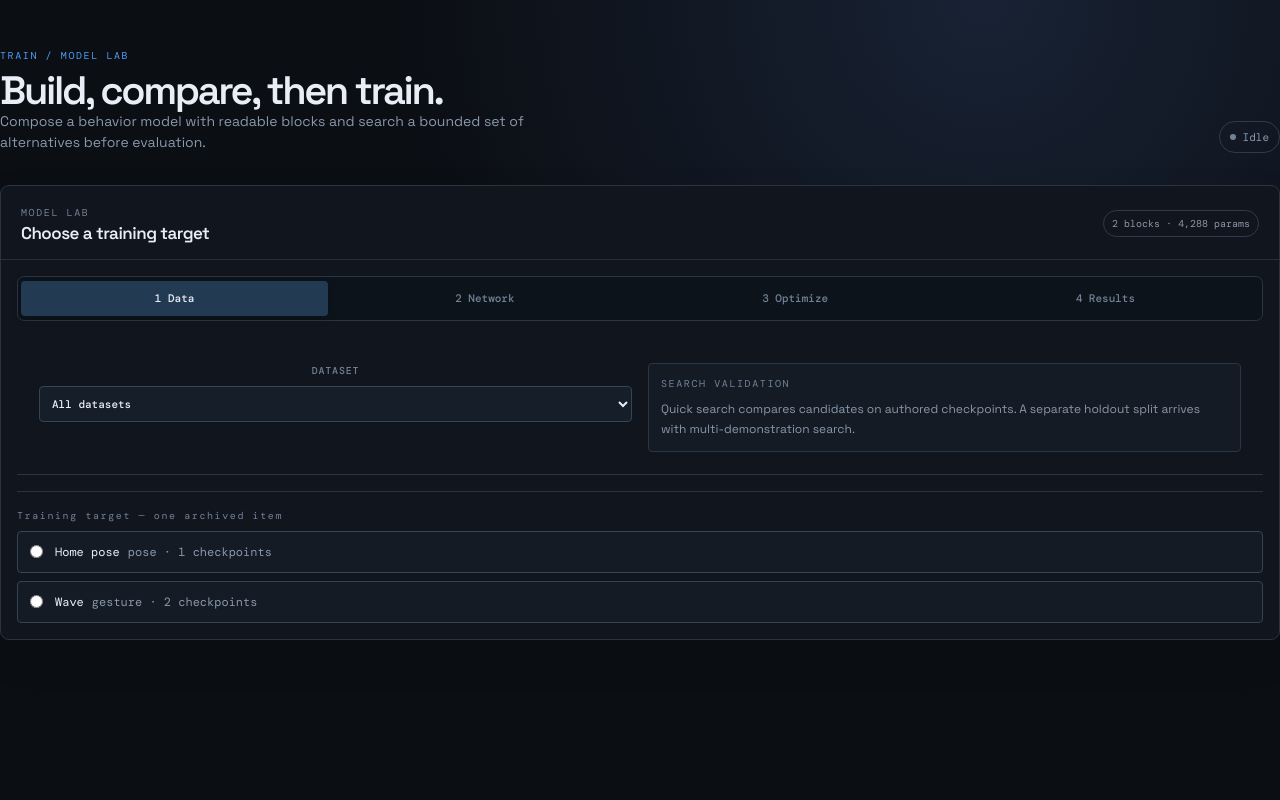
Test: TrainingPage single-target picker › blocks training until a target is selected
The width and height of the screenshot is (1280, 800).
Click the tab "3 Optimize". click: (795, 299)
box: [642,280,949,317]
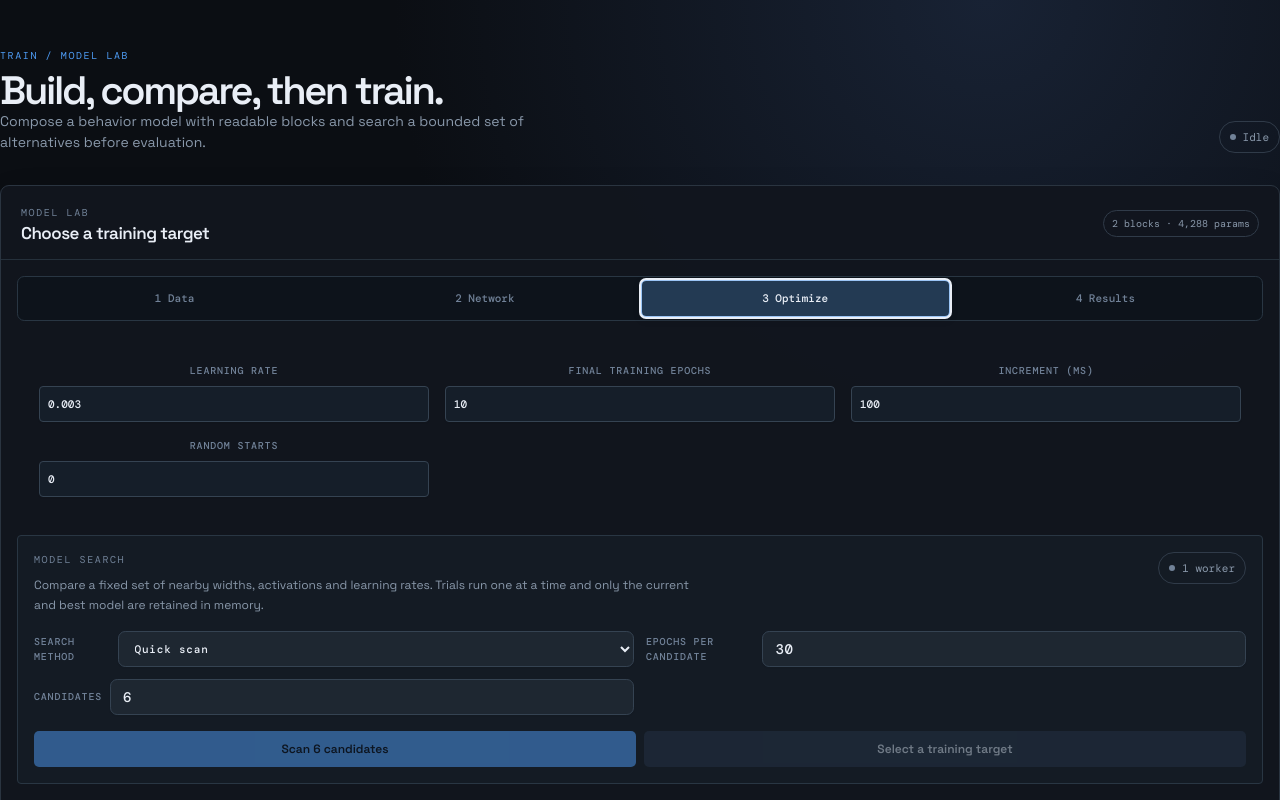
Check: the button "Select a training target" is disabled, box [644,731,1246,767]
